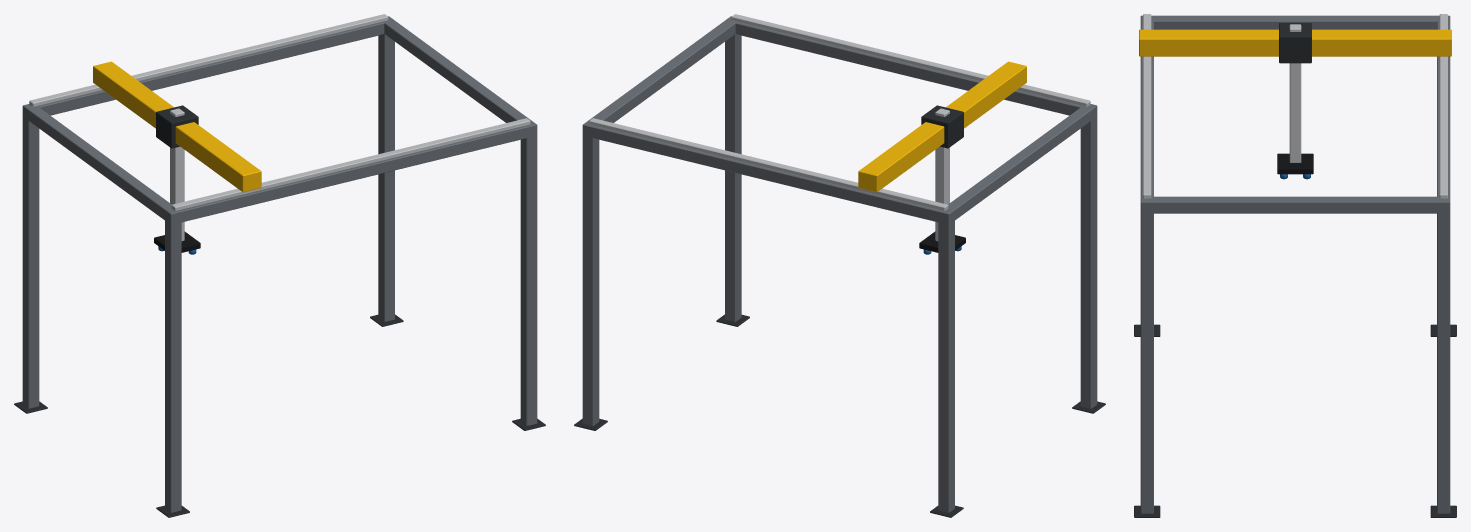
Rendered from pick_and_place.glb.
3 views of the same model, side by side, from view 1: azimuth 30°, elevation 25°; view 2: azimuth 150°, elevation 25°; view 3: azimuth 270°, elevation 25° (orthographic). The views are drawn at different scales.
Visible parts, largest first — view 1: Gantry_Static, Beam, Picker, Carriage; view 2: Gantry_Static, Beam, Picker, Carriage; view 3: Gantry_Static, Beam, Picker, Carriage.
Boxes of the visible parts, x1,y1,x2,y2 form: Gantry_Static: (14, 14, 545, 517); Beam: (93, 61, 261, 192); Picker: (154, 108, 200, 254); Carriage: (156, 105, 198, 148); Gantry_Static: (574, 14, 1105, 517); Beam: (858, 61, 1026, 192); Picker: (919, 108, 965, 254); Carriage: (921, 105, 963, 148); Gantry_Static: (1134, 14, 1456, 517); Beam: (1139, 29, 1451, 56); Picker: (1277, 24, 1313, 179); Carriage: (1279, 23, 1311, 63).
Size of the model in its own units: 2.76 by 2.3 by 1.96.
